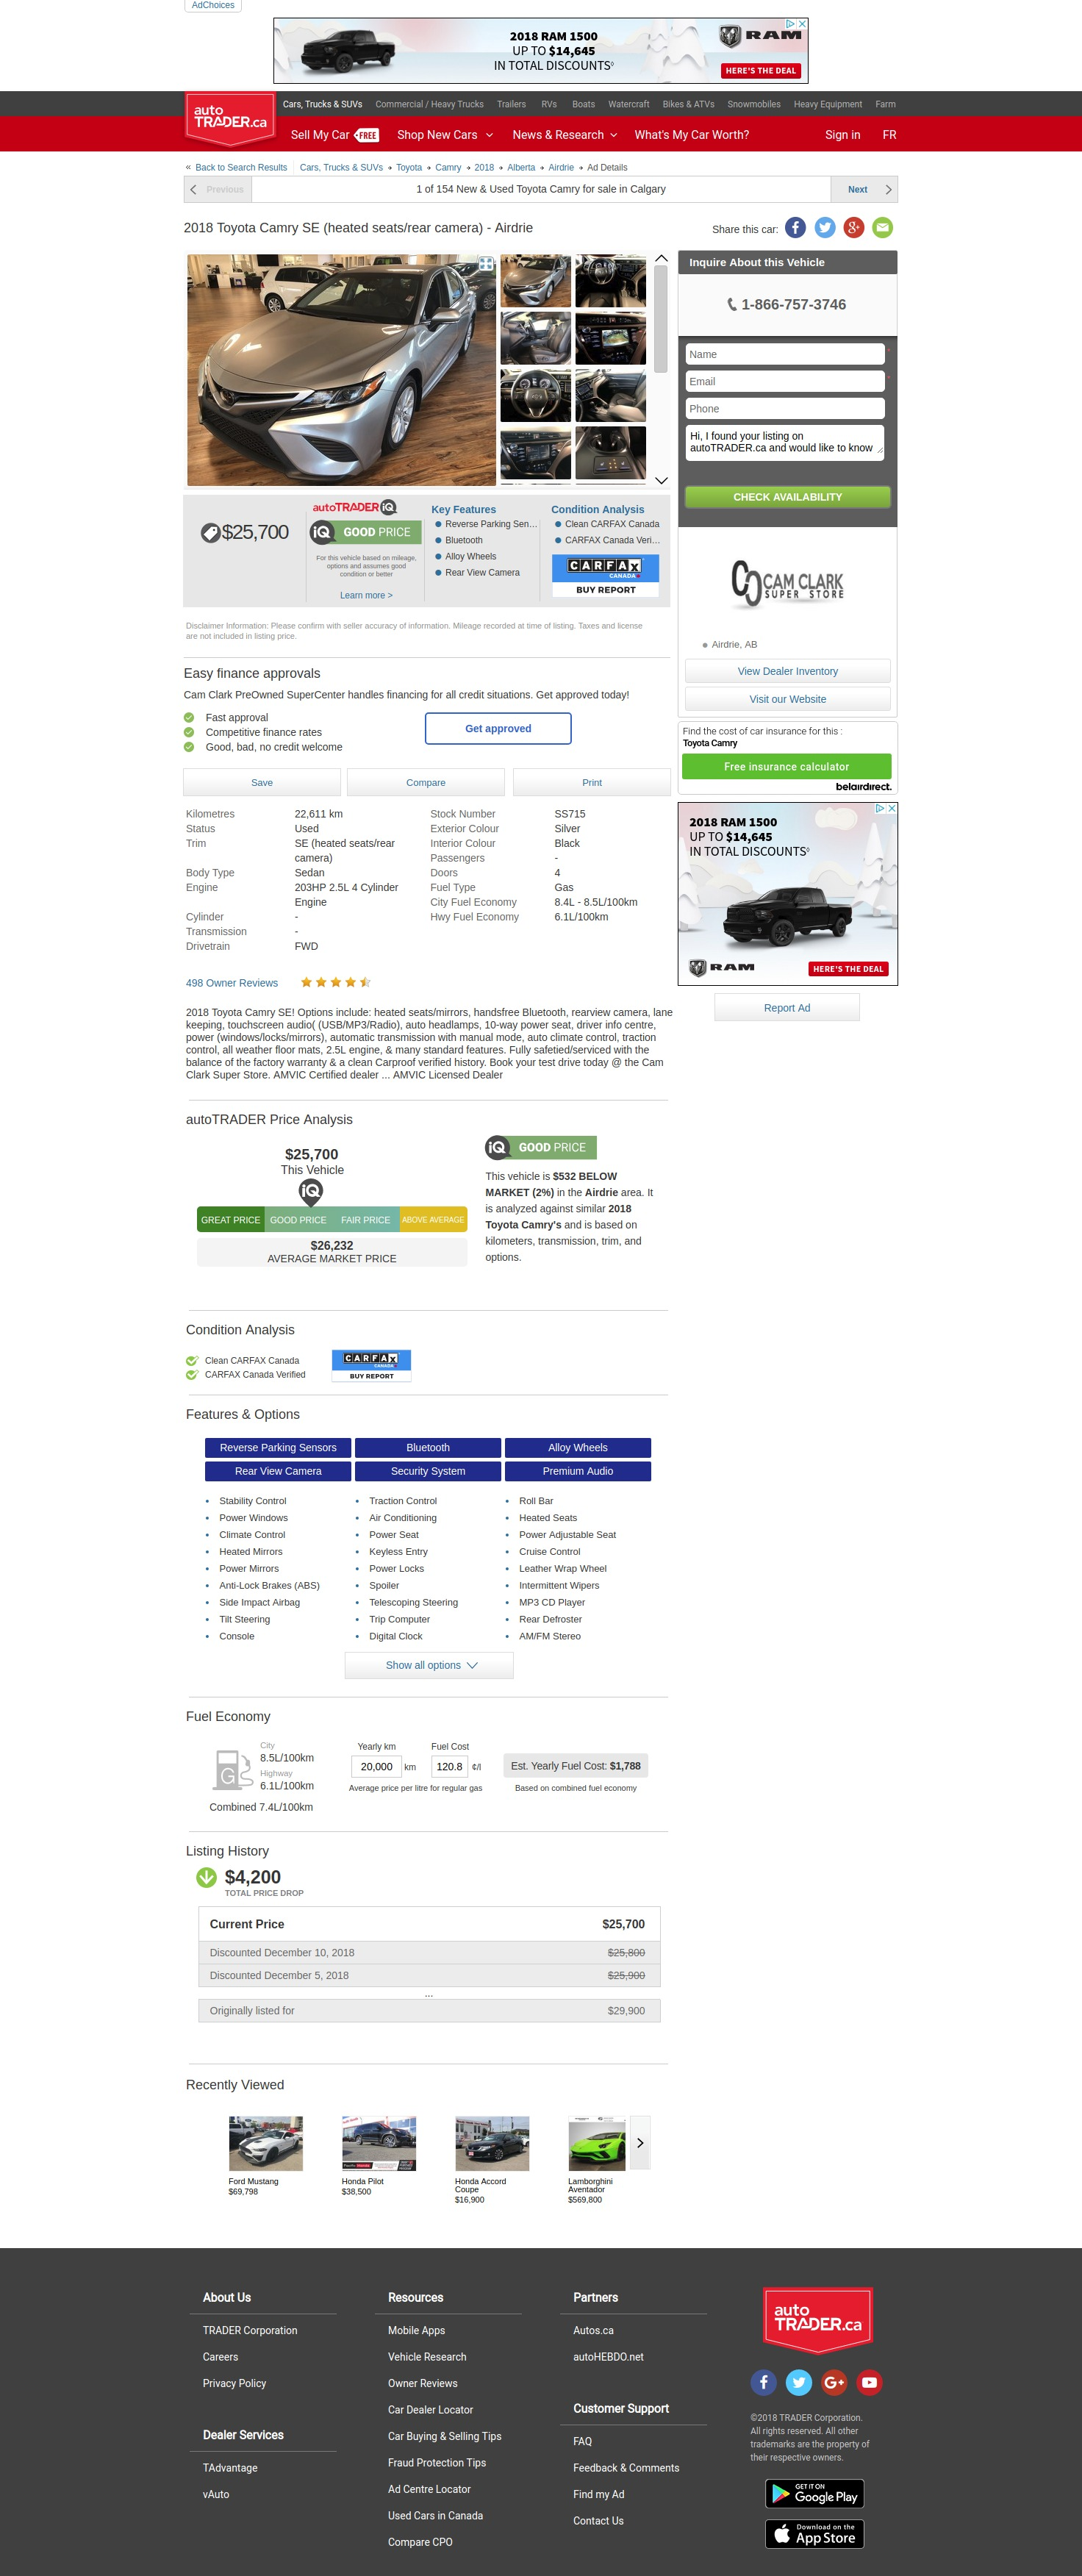car: (653, 476, 670, 486)
